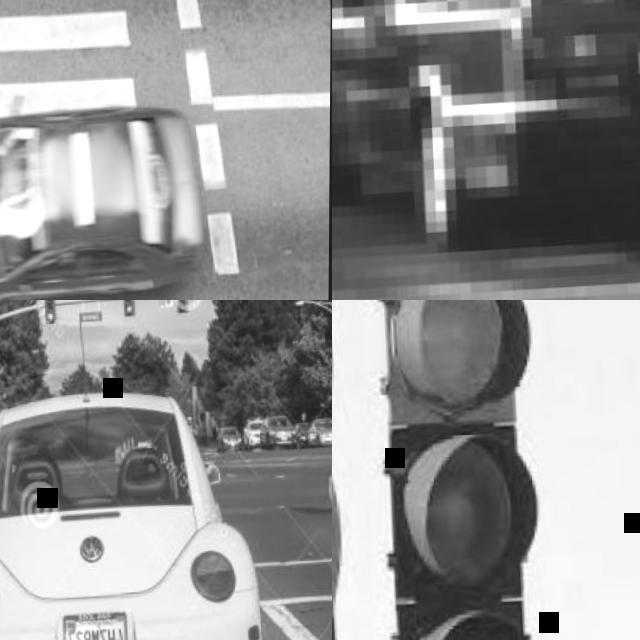car: (2, 389, 262, 636)
